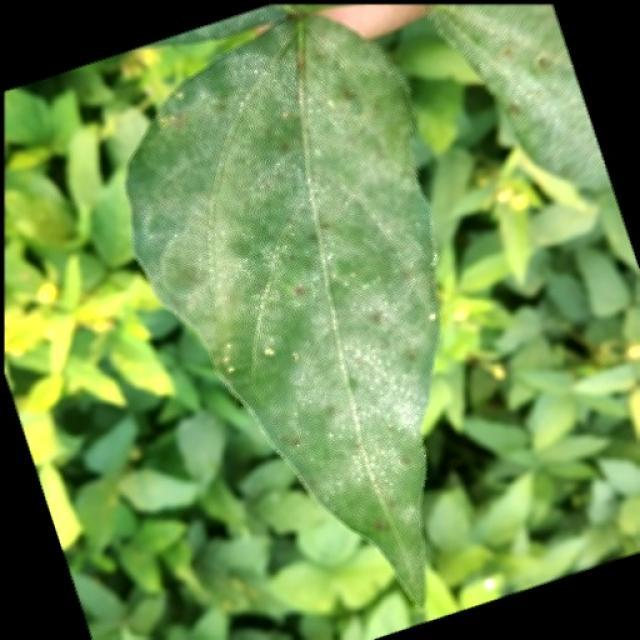leaves: (111, 3, 472, 629)
